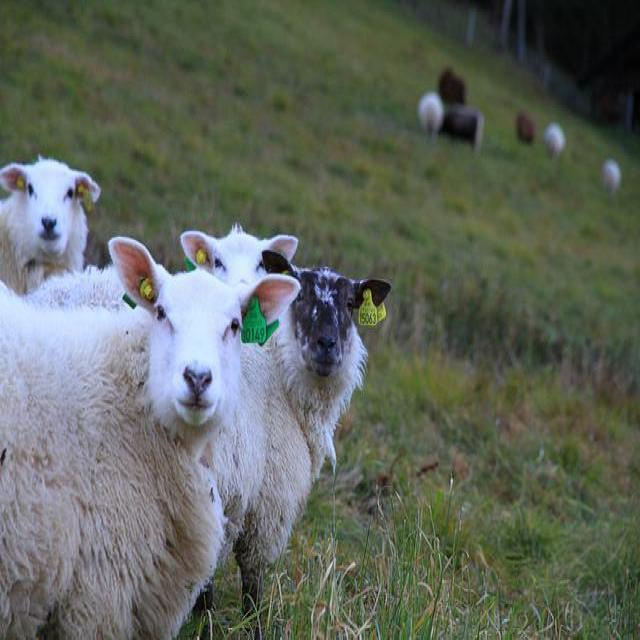Sheep: (1, 237, 303, 632), (200, 244, 395, 624), (21, 231, 296, 307), (0, 159, 101, 300)
